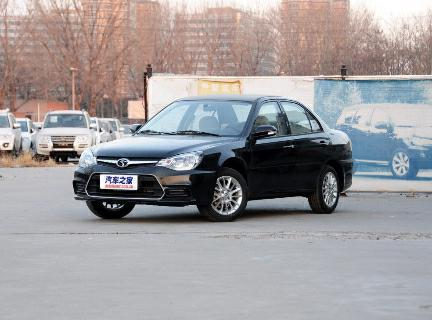东南-V3菱悦: (69, 91, 362, 219)
